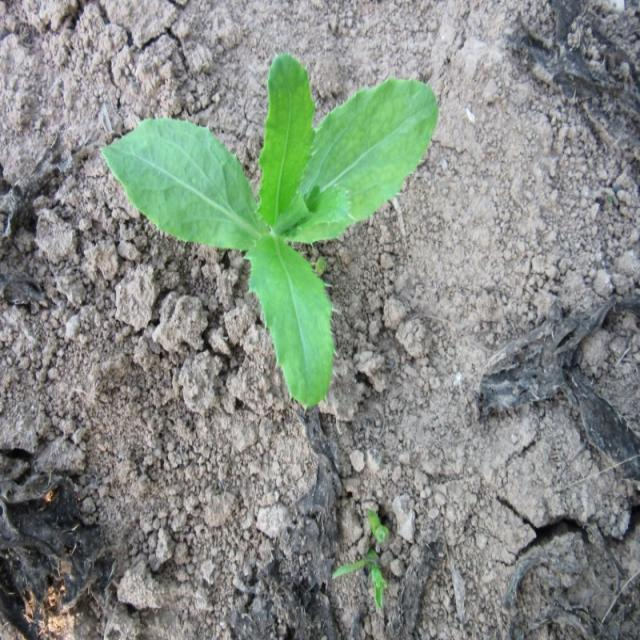cs: (98, 51, 438, 413)
